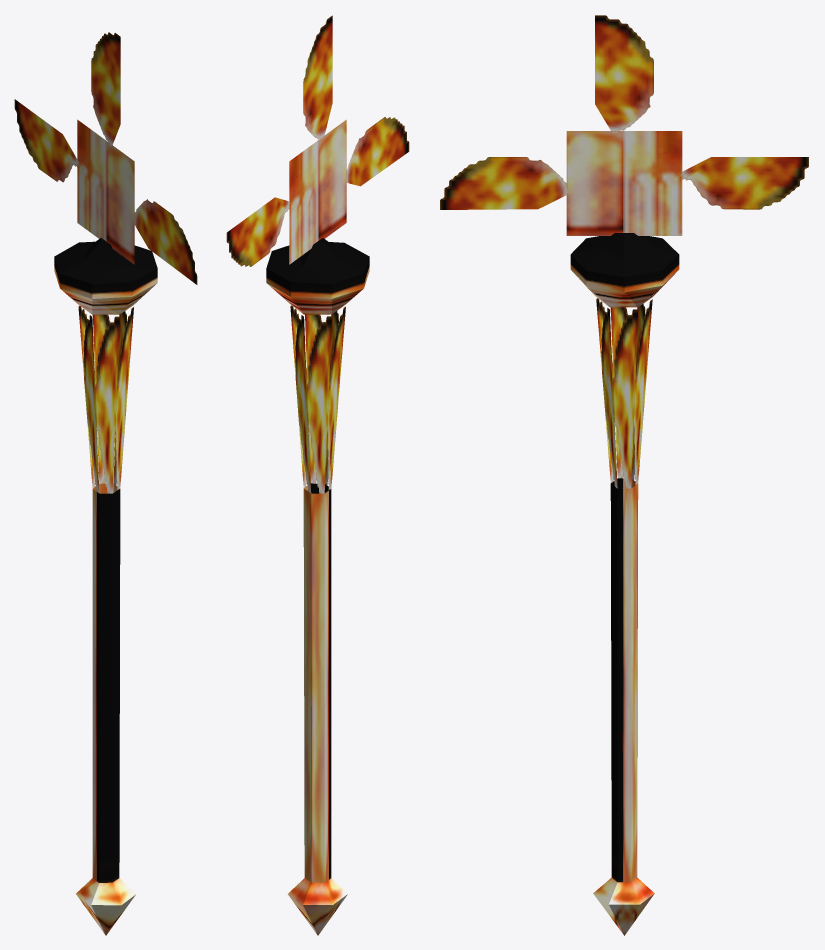
The model's file is wavemaster04_3.obj.
The picture shows the model from 3 angles, left to right: view 1: azimuth 30°, elevation 25°; view 2: azimuth 150°, elevation 25°; view 3: azimuth 270°, elevation 25°; orthographic projection.
Visible parts, largest first — view 1: wavemaster04_3; view 2: wavemaster04_3; view 3: wavemaster04_3.
Boxes of the visible parts, left/top/right/bottom form: wavemaster04_3: left=14, top=32, right=197, bottom=935; wavemaster04_3: left=226, top=15, right=409, bottom=935; wavemaster04_3: left=440, top=15, right=808, bottom=935.
Size of the model in its own units: 0.1375 by 1.3 by 0.475.
